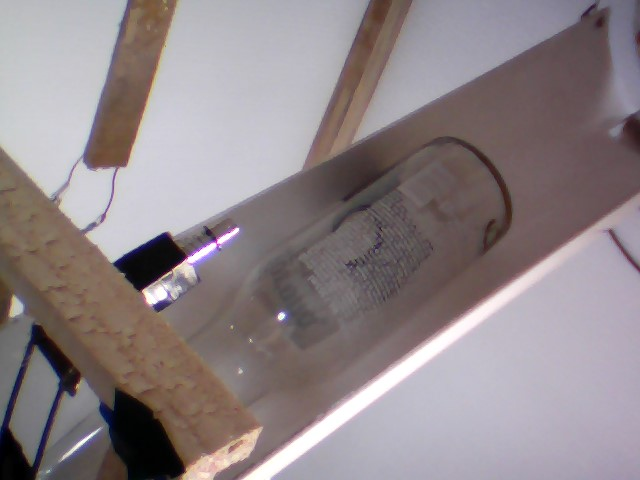vidrio: (178, 127, 519, 403)
